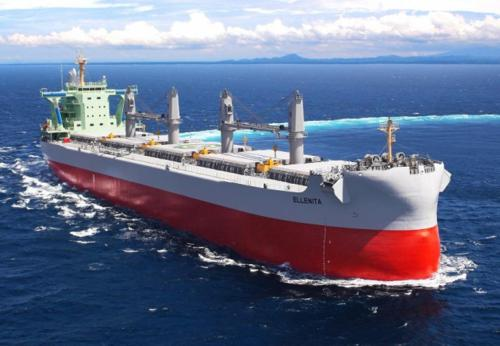Cargoship: (39, 55, 451, 284)
